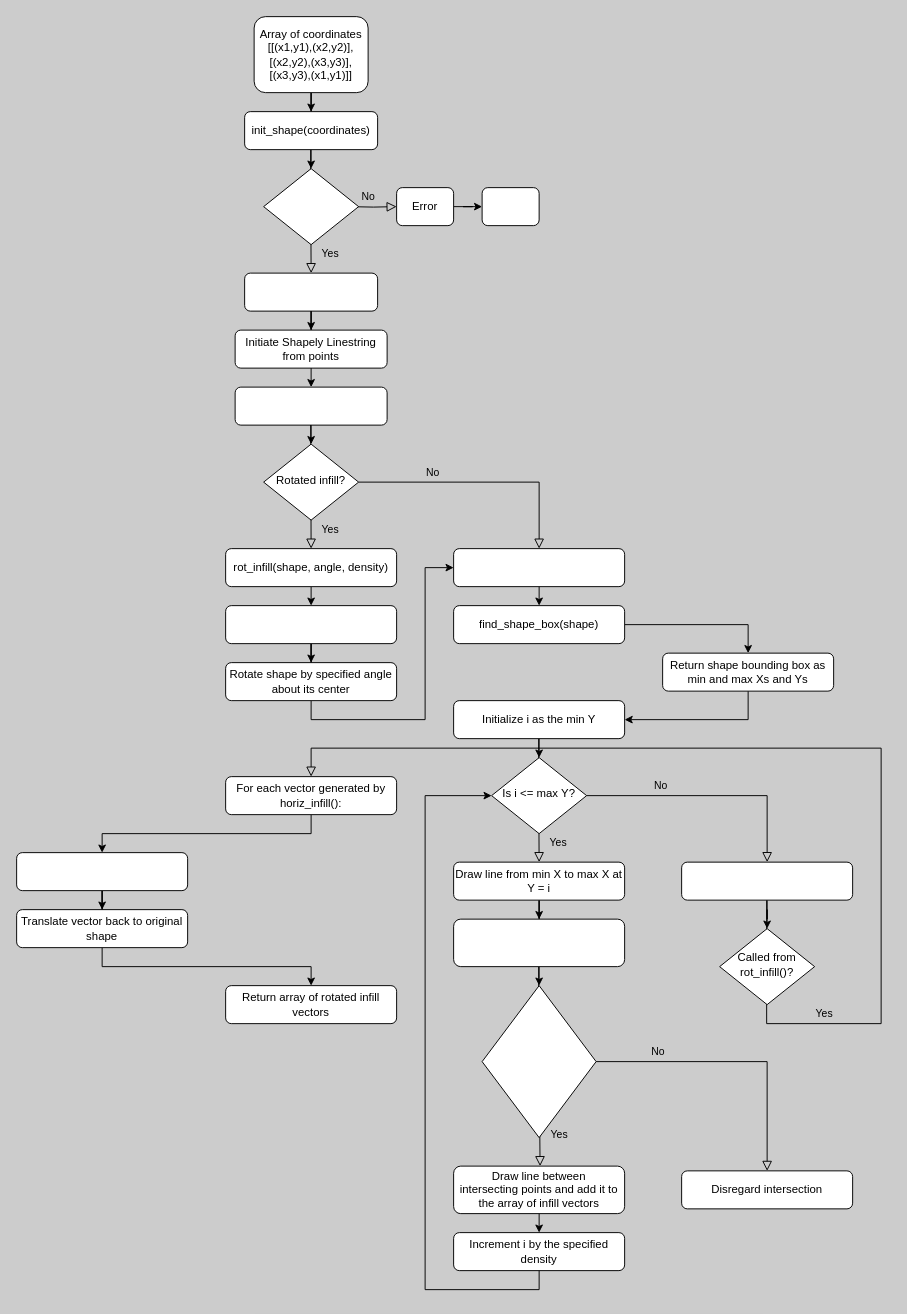
This 907x1314 diagram has some shape labels left out. The centre of each missing label's shape, as x and y in pixels:
"Does the intersection exist and does it only intersect at two points?" goes at (x=538, y=1061).
"Exit" goes at (x=510, y=206).
"Extract points from coordinates" goes at (x=311, y=291).
"horiz_infill(shape, density)" goes at (x=539, y=567).
"Is shape closed?" goes at (x=311, y=206).
"Return array of horizontal infill vectors" goes at (x=767, y=880).
"Return shape" goes at (x=310, y=405).
"Rotate vector by negative specified angle about the origin" goes at (x=102, y=871).
"Translate shape to the origin" goes at (x=311, y=624).
"Use Shapely intersection() to determine where line intersects the shape" goes at (x=539, y=942).
